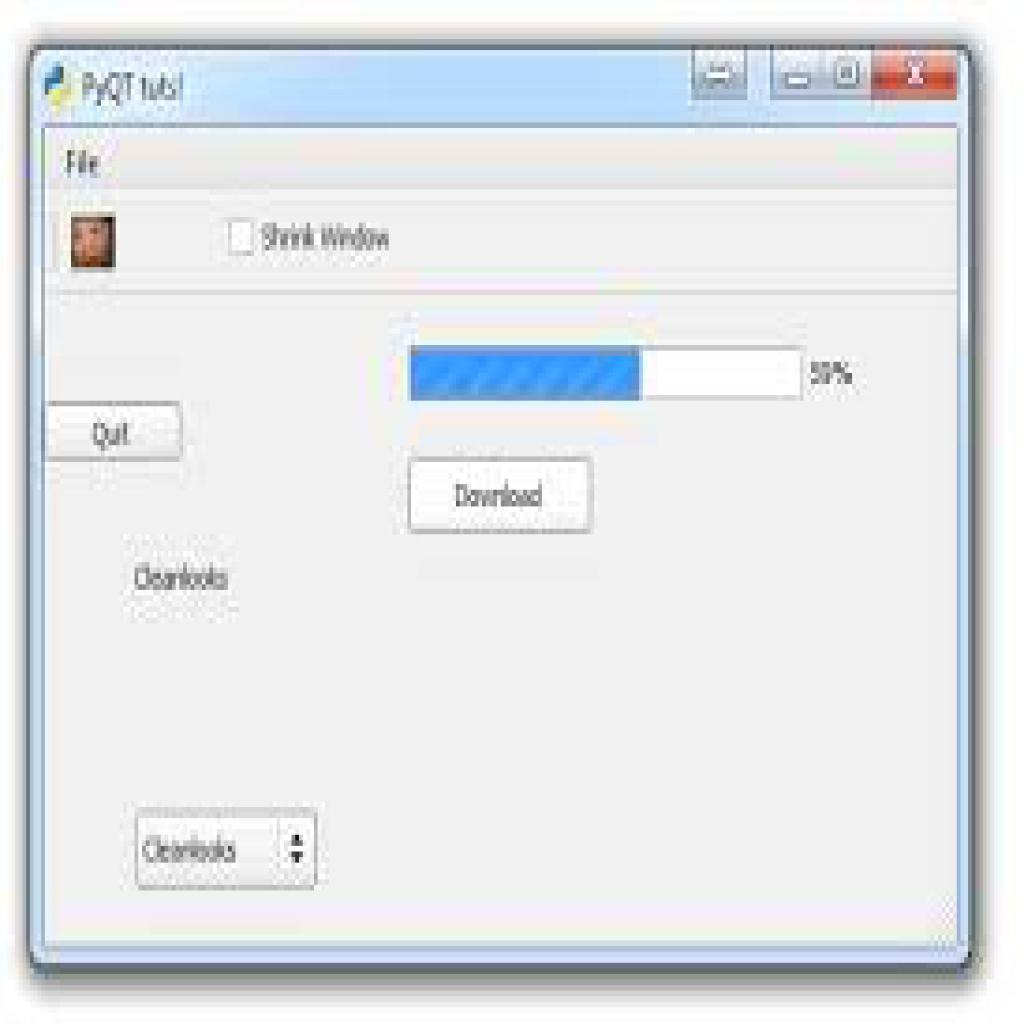button: (410, 457, 588, 531), (43, 405, 186, 463)
checkbox: (223, 217, 259, 262)
dropdown: (135, 813, 320, 892)
slider: (407, 340, 809, 408)
